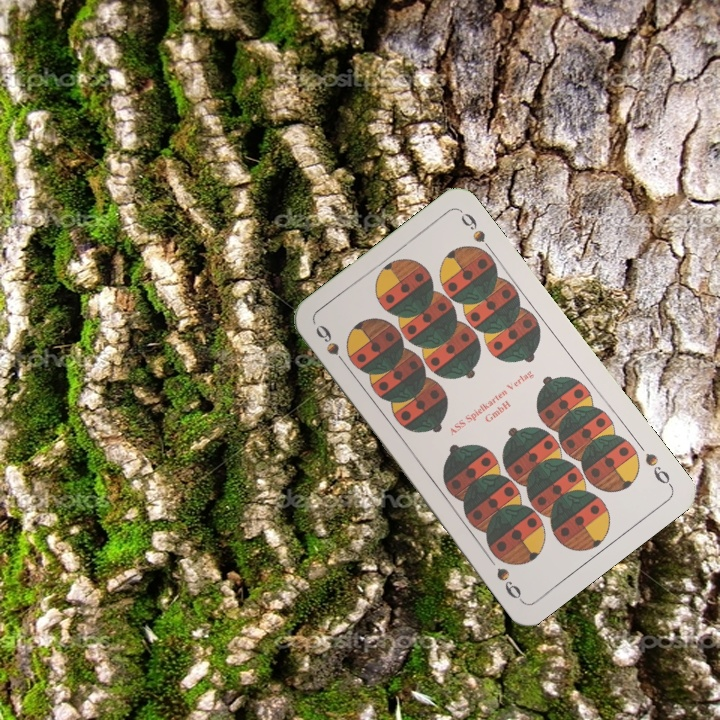S9: (311, 320, 352, 372), (640, 449, 675, 490)
